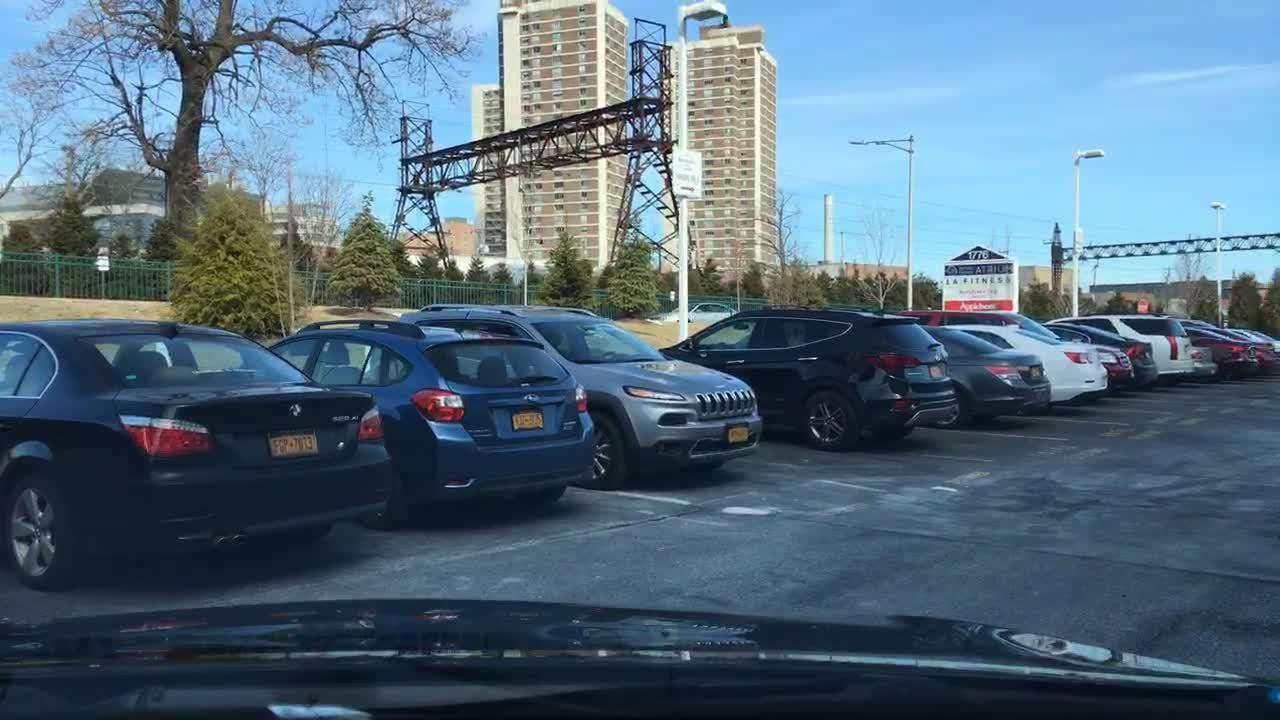bmw: (278, 394, 312, 427)
jeep: (712, 380, 730, 393)
subaru: (522, 393, 543, 404)
